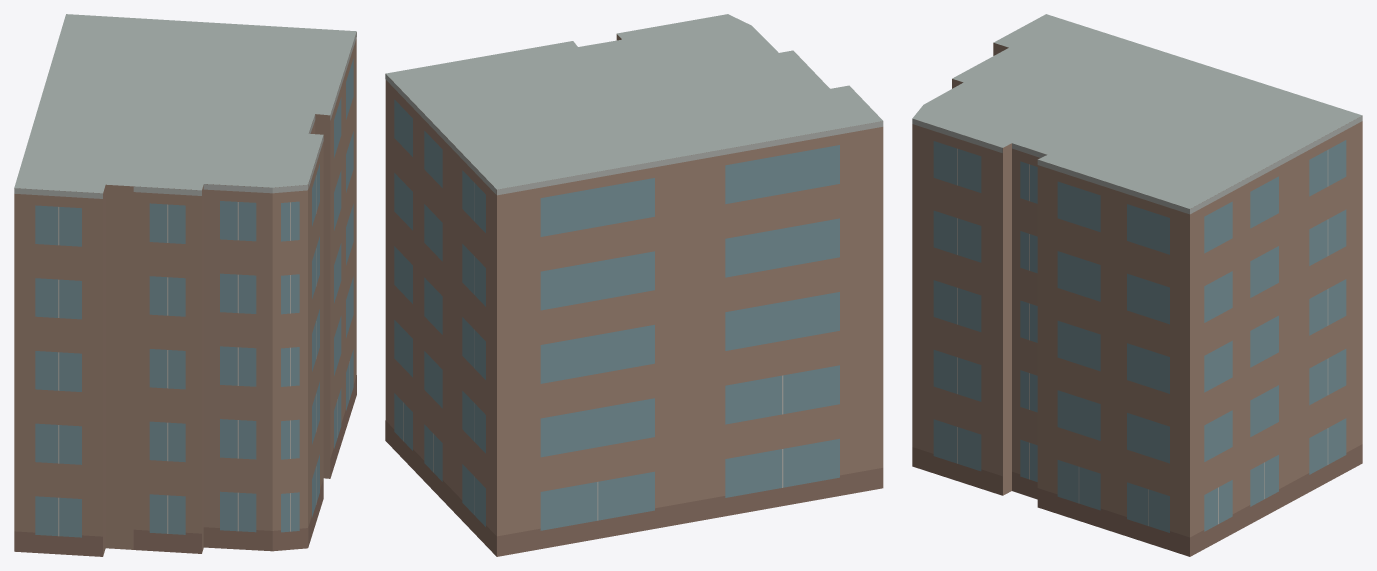
File: survey-upis-32667450.glb
3 views of the same model, side by side, from view 1: azimuth 30°, elevation 25°; view 2: azimuth 150°, elevation 25°; view 3: azimuth 270°, elevation 25° (orthographic). The views are drawn at different scales.
Visible parts, largest first — view 1: survey-upis-32667450.tmp; view 2: survey-upis-32667450.tmp; view 3: survey-upis-32667450.tmp.
Boxes of the visible parts, x1,y1,x2,y2 form: survey-upis-32667450.tmp: (14, 14, 356, 556); survey-upis-32667450.tmp: (385, 14, 883, 556); survey-upis-32667450.tmp: (912, 14, 1362, 556).
Bounding box in the file's own units: 18.77 × 15.6 × 18.32.
